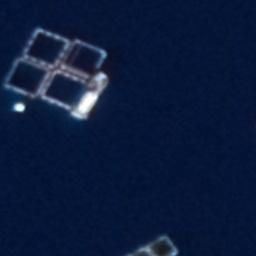square_solid: (38, 66, 93, 116), (18, 24, 74, 73), (57, 37, 112, 86), (2, 54, 49, 102)
